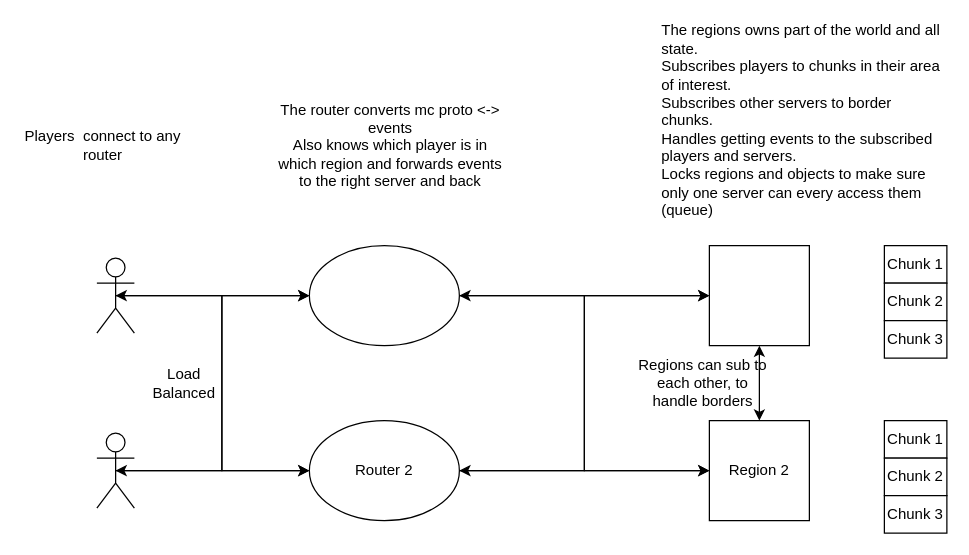
The diagram is 969 pixels wide and 555 high, and some of its shapes have lost their labels. Each missing label, with the centre of its shape:
Player 1: (x=115, y=295)
Player 2: (x=115, y=470)
Region 1: (x=758, y=295)
Router 1: (x=383, y=295)
